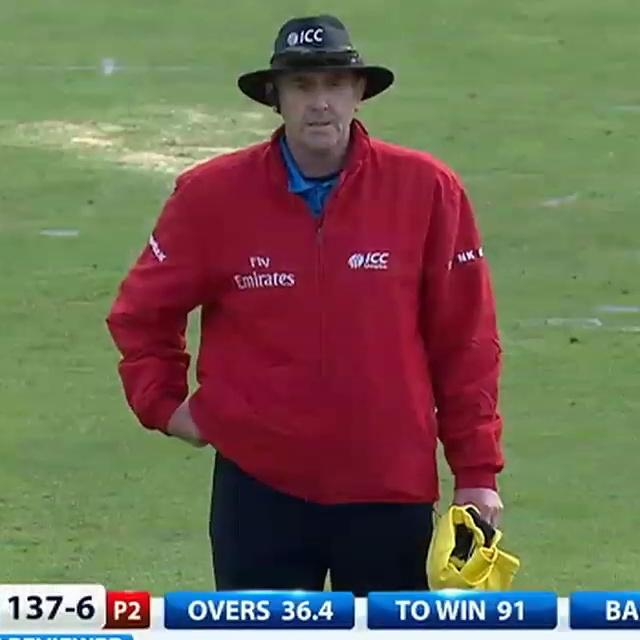umpire: (88, 0, 533, 594)
